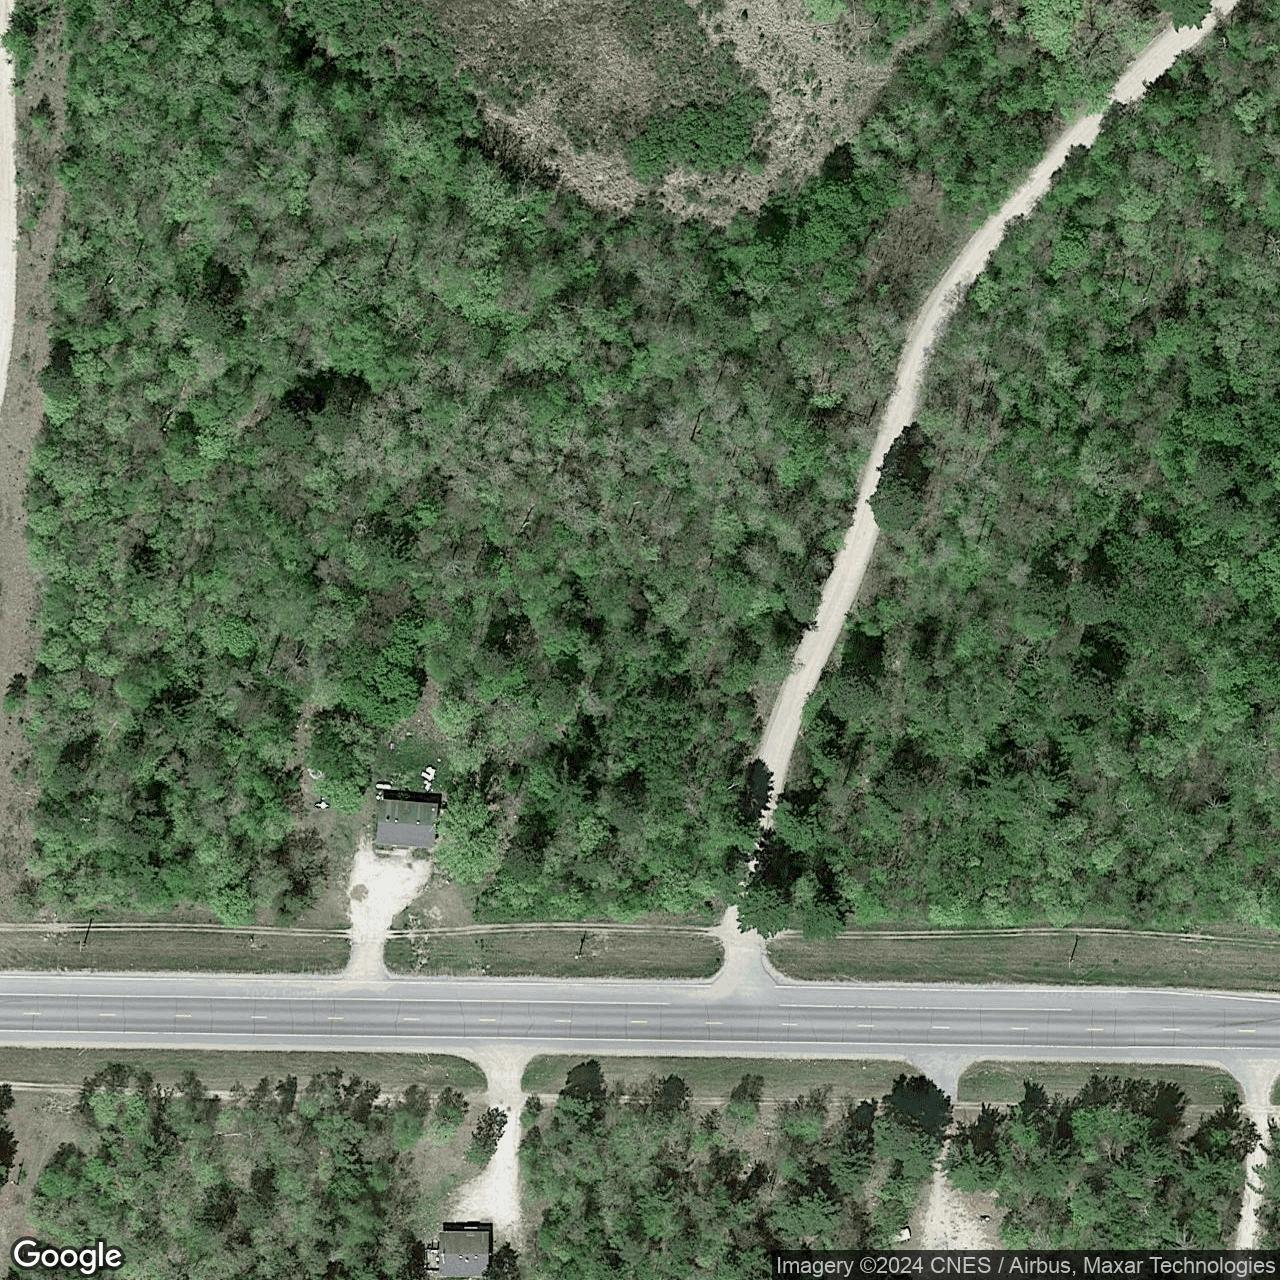House: (374, 798, 438, 850), (437, 1230, 490, 1279)
Propane: (375, 781, 393, 790)
